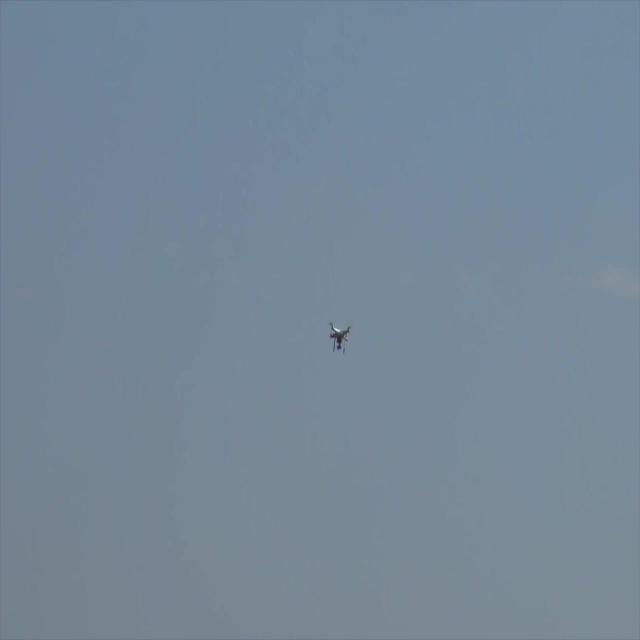UAV: (328, 322, 352, 354)
